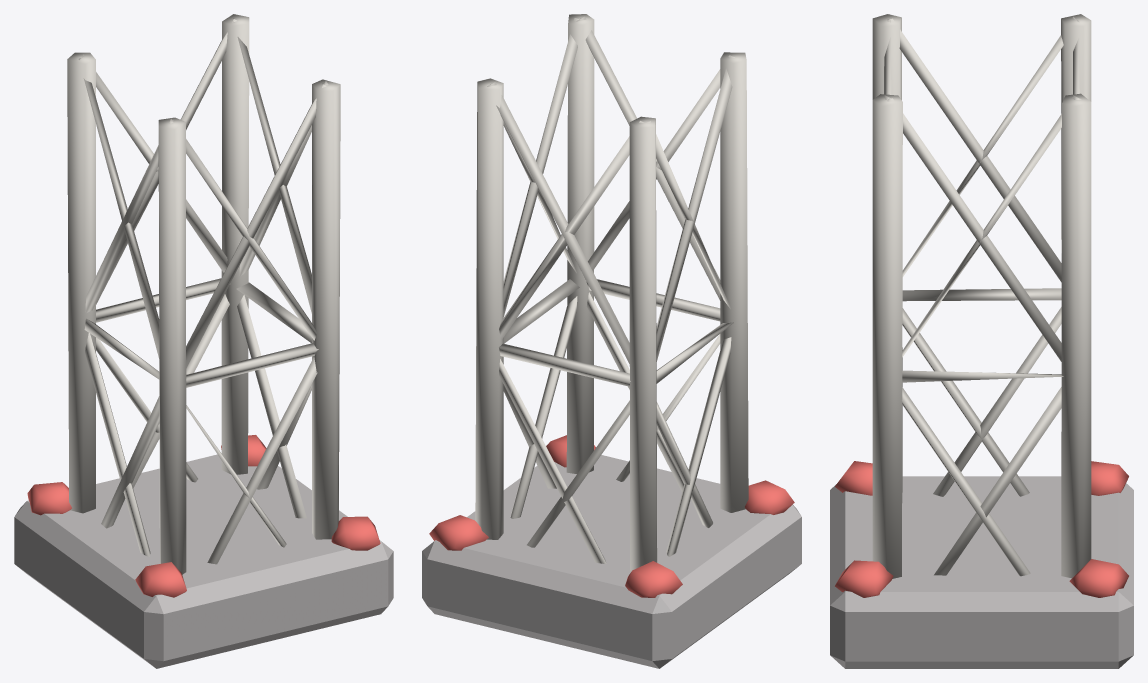
Rendered from coastertruss.glb.
The picture shows the model from 3 angles, left to right: view 1: azimuth 30°, elevation 25°; view 2: azimuth 150°, elevation 25°; view 3: azimuth 270°, elevation 25°; orthographic projection. The views are drawn at different scales.
Parts seen in each view (by area): view 1: CT_truss, CT_foot, CT_cap; view 2: CT_truss, CT_foot, CT_cap; view 3: CT_truss, CT_foot, CT_cap.
Part boxes in pixels (<box>): CT_truss: <box>67,14,340,574</box>; CT_foot: <box>14,454,393,668</box>; CT_cap: <box>27,435,380,597</box>; CT_truss: <box>475,14,748,571</box>; CT_foot: <box>422,455,801,668</box>; CT_cap: <box>429,435,794,597</box>; CT_truss: <box>872,14,1091,578</box>; CT_foot: <box>830,476,1133,668</box>; CT_cap: <box>835,461,1128,597</box>.
Bounding box in the file's own units: 2 × 4.04 × 2.
